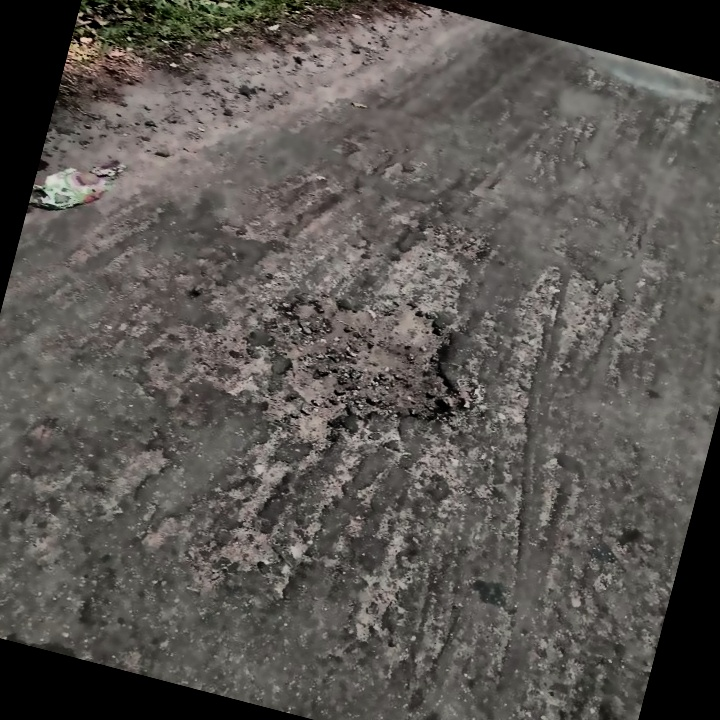pothole: (249, 266, 482, 443)
